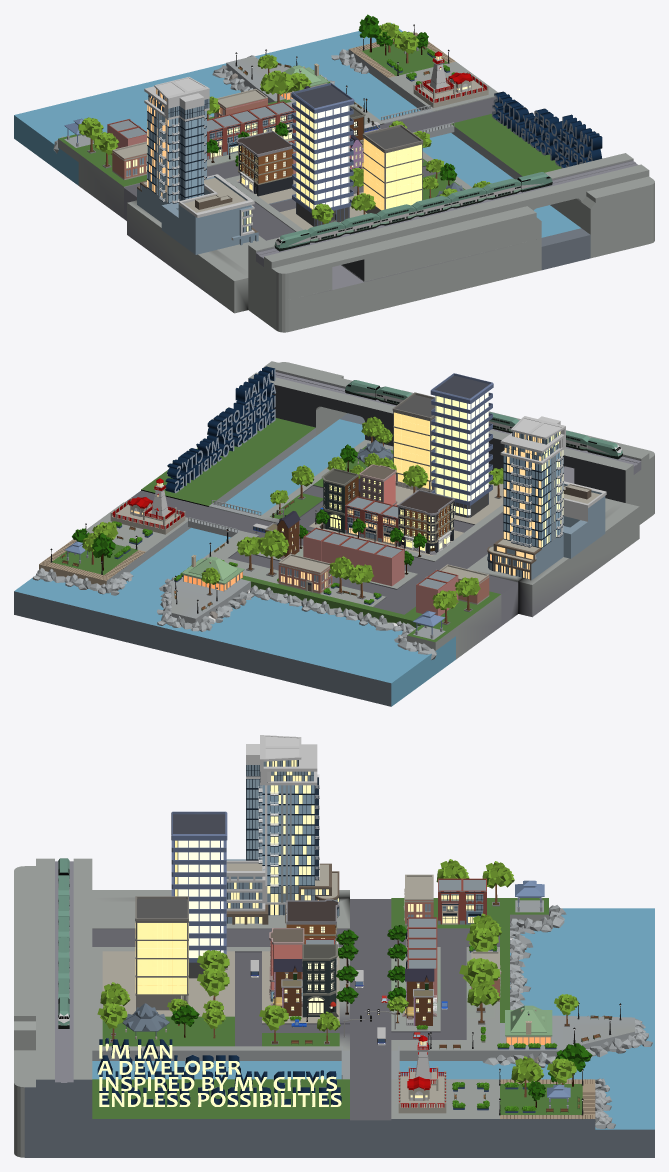
Rendered from PortCredit2-PreBake4.glb.
The picture shows the model from 3 angles, top to bottom: view 1: azimuth 30°, elevation 25°; view 2: azimuth 150°, elevation 25°; view 3: azimuth 270°, elevation 25°; orthographic projection. The views are drawn at different scales.
Visible parts, largest first — view 1: Base, skyscraper-C_cgcookie, HURONTARIO_BOTTOM_NIGHT, HURONTARIO_MIDDLE_NIGHT, skyscraper-B_cgcookie, residential-corner-D_cgcookie, HURONTARIO_TOP_NIGHT, Lighthouse__NIGHT, tree-small_cgcookie (×3), STARCH_BUILDING_NIGHT, WATERSIDE_BUILDING_+NIGHT, SHOP_7_NIGHT (+14 smaller); view 2: Base, skyscraper-C_cgcookie, HURONTARIO_MIDDLE_NIGHT, HURONTARIO_BOTTOM_NIGHT, skyscraper-B_cgcookie, residential-corner-D_cgcookie, HURONTARIO_TOP_NIGHT, Lighthouse__NIGHT, residential-corner-A_cgcookie, WATERSIDE_BUILDING_+NIGHT, Icosphere.133, residential_B_cgcookie (+13 smaller); view 3: Base, skyscraper-C_cgcookie, HURONTARIO_MIDDLE_NIGHT, skyscraper-B_cgcookie, HURONTARIO_BOTTOM_NIGHT, tree-small_cgcookie (×5), HURONTARIO_TOP_NIGHT, residential_C_cgcookie (×2), residential-corner-A_cgcookie, Lighthouse__NIGHT, residential-corner-D_cgcookie, SNUG_HARBOUR_NIGHT (+6 smaller).
Boxes of the visible parts, x1=… form: Base: x1=14, y1=23, x2=654, y2=332; skyscraper-C_cgcookie: x1=291, y1=82, x2=354, y2=226; HURONTARIO_BOTTOM_NIGHT: x1=137, y1=174, x2=258, y2=254; HURONTARIO_MIDDLE_NIGHT: x1=147, y1=105, x2=206, y2=203; skyscraper-B_cgcookie: x1=362, y1=124, x2=423, y2=213; residential-corner-D_cgcookie: x1=236, y1=130, x2=293, y2=196; HURONTARIO_TOP_NIGHT: x1=144, y1=77, x2=209, y2=121; Lighthouse__NIGHT: x1=413, y1=51, x2=488, y2=107; tree-small_cgcookie (×3): x1=78, y1=70, x2=294, y2=168; STARCH_BUILDING_NIGHT: x1=112, y1=141, x2=146, y2=180; WATERSIDE_BUILDING_+NIGHT: x1=214, y1=89, x2=267, y2=117; SHOP_7_NIGHT: x1=212, y1=114, x2=242, y2=155; Base: x1=14, y1=361, x2=654, y2=706; skyscraper-C_cgcookie: x1=430, y1=373, x2=493, y2=517; HURONTARIO_MIDDLE_NIGHT: x1=503, y1=450, x2=563, y2=548; HURONTARIO_BOTTOM_NIGHT: x1=487, y1=481, x2=606, y2=580; skyscraper-B_cgcookie: x1=392, y1=392, x2=435, y2=492; residential-corner-D_cgcookie: x1=397, y1=489, x2=455, y2=554; HURONTARIO_TOP_NIGHT: x1=500, y1=416, x2=565, y2=464; Lighthouse__NIGHT: x1=110, y1=478, x2=185, y2=534; residential-corner-A_cgcookie: x1=319, y1=468, x2=358, y2=533; WATERSIDE_BUILDING_+NIGHT: x1=278, y1=554, x2=332, y2=594; Icosphere.133: x1=37, y1=567, x2=436, y2=659; residential_B_cgcookie: x1=359, y1=464, x2=397, y2=505; Base: x1=14, y1=858, x2=654, y2=1157; skyscraper-C_cgcookie: x1=171, y1=811, x2=227, y2=978; HURONTARIO_MIDDLE_NIGHT: x1=246, y1=774, x2=319, y2=887; skyscraper-B_cgcookie: x1=135, y1=896, x2=188, y2=1010; HURONTARIO_BOTTOM_NIGHT: x1=226, y1=859, x2=339, y2=924; tree-small_cgcookie (×5): x1=197, y1=861, x2=543, y2=1097; HURONTARIO_TOP_NIGHT: x1=246, y1=735, x2=317, y2=785; residential_C_cgcookie (×2): x1=270, y1=959, x2=436, y2=1025; residential-corner-A_cgcookie: x1=302, y1=944, x2=338, y2=1017; Lighthouse__NIGHT: x1=398, y1=1035, x2=446, y2=1113; residential-corner-D_cgcookie: x1=286, y1=899, x2=339, y2=970; SNUG_HARBOUR_NIGHT: x1=505, y1=1005, x2=552, y2=1045.
Bounding box in the file's own units: 33.53 × 13.26 × 39.4.
36 materials, 4 textured.
